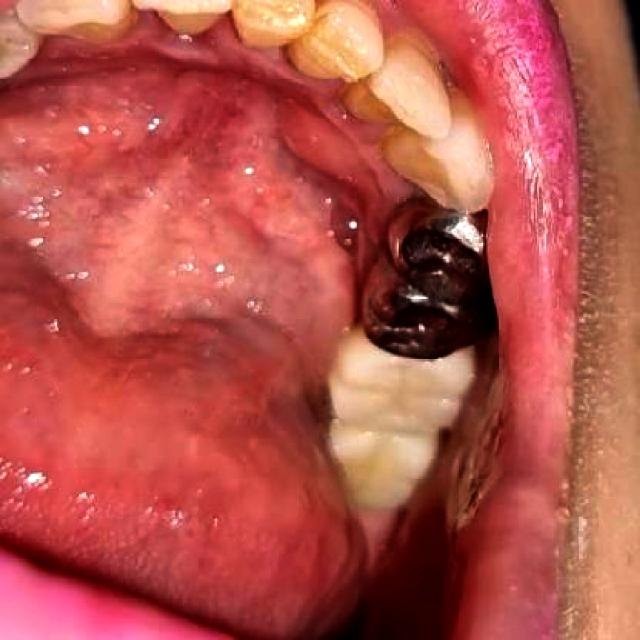Plaque: (116, 6, 391, 157)
